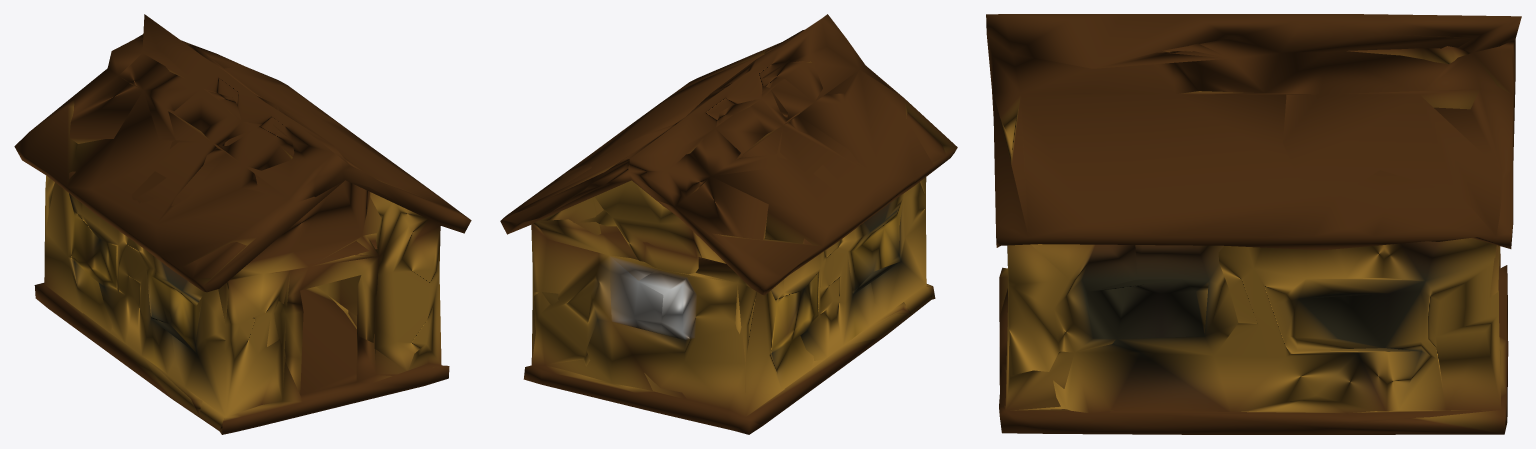
File: gen3d-beach-hut-lod0.glb
The picture shows the model from 3 angles, left to right: view 1: azimuth 30°, elevation 25°; view 2: azimuth 150°, elevation 25°; view 3: azimuth 270°, elevation 25°; orthographic projection. The views are drawn at different scales.
Visible parts, largest first — view 1: part_0; view 2: part_0; view 3: part_0.
Boxes of the visible parts, x1,y1,x2,y2 form: part_0: (14, 14, 471, 434); part_0: (500, 14, 957, 434); part_0: (986, 14, 1521, 434).
Bounding box in the file's own units: 1.11 × 0.9994 × 1.4.
